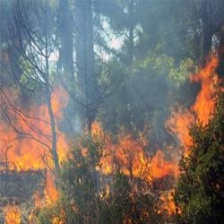fire: (1, 70, 215, 184)
